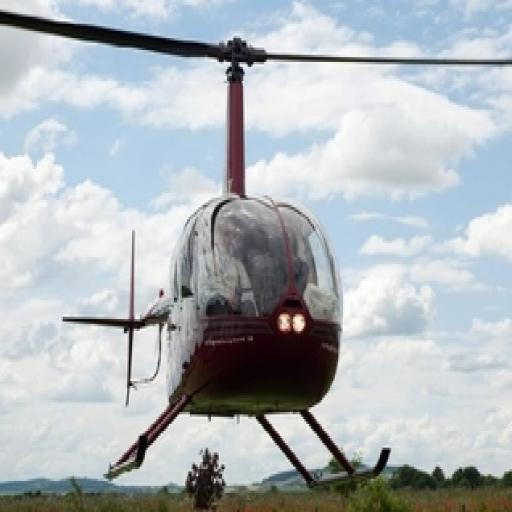helicopter: (3, 13, 510, 496)
